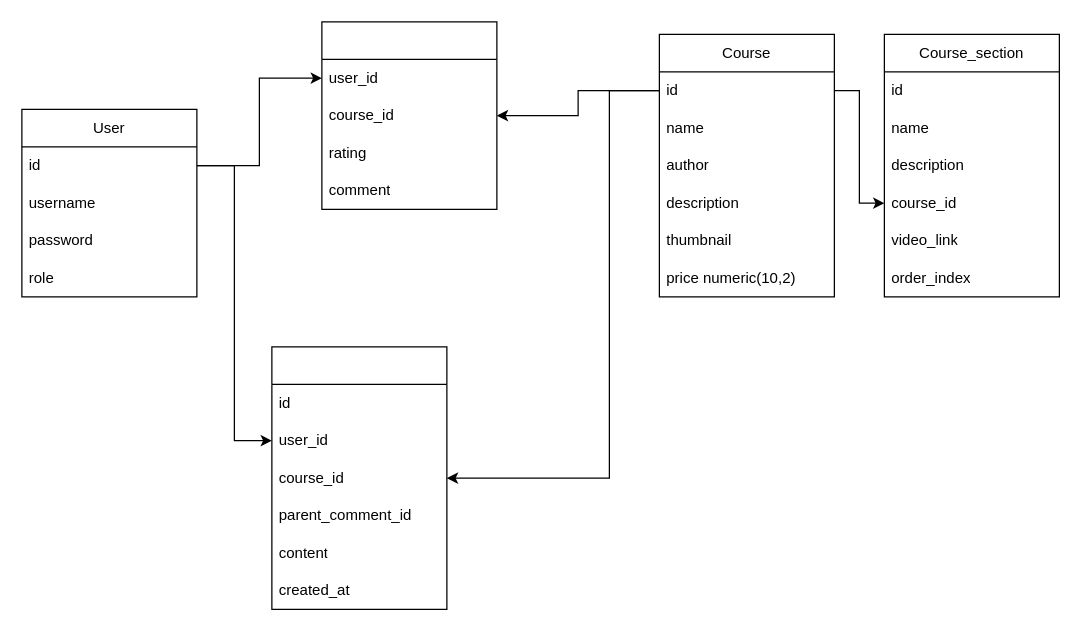
Image size: 1081x631. Some labels were removed from this diagram. Each missing label, with the box of its shape:
Comments: (271, 346, 447, 609)
User-Course: (321, 21, 497, 209)
